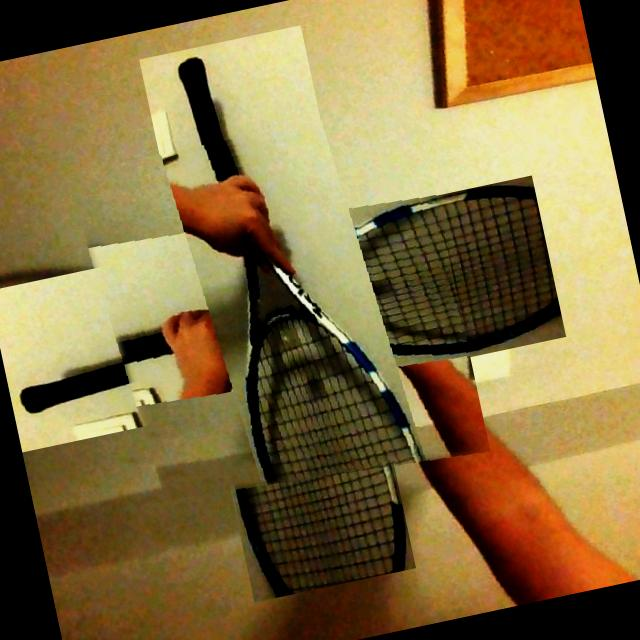TennisRacket: (62, 100, 489, 528)
